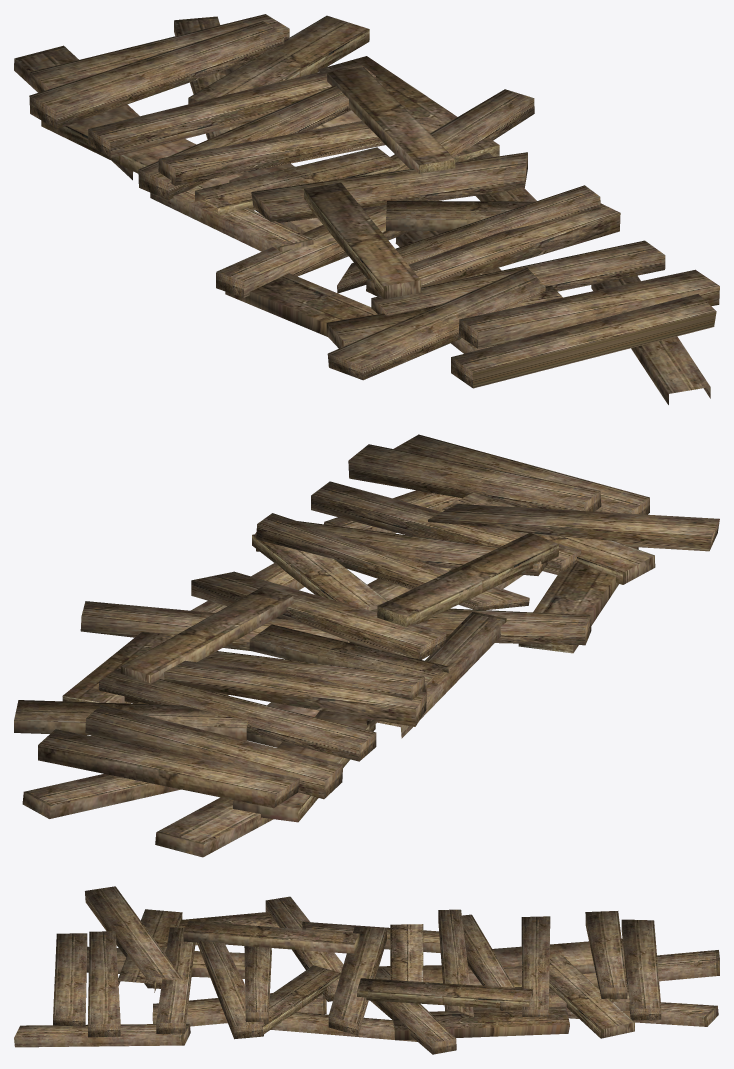
The model's file is S_Build_West110.FBX.
3 renders of one model, top to bottom at view 1: azimuth 30°, elevation 25°; view 2: azimuth 150°, elevation 25°; view 3: azimuth 270°, elevation 25°, orthographic. The views are drawn at different scales.
Visible parts, largest first — view 1: S_Build_West110; view 2: S_Build_West110; view 3: S_Build_West110.
Boxes of the visible parts, bbox=[...] form: S_Build_West110: bbox=[14, 14, 719, 404]; S_Build_West110: bbox=[14, 434, 719, 857]; S_Build_West110: bbox=[14, 886, 719, 1054].
Size of the model in its own units: 578 by 1148 by 101.
